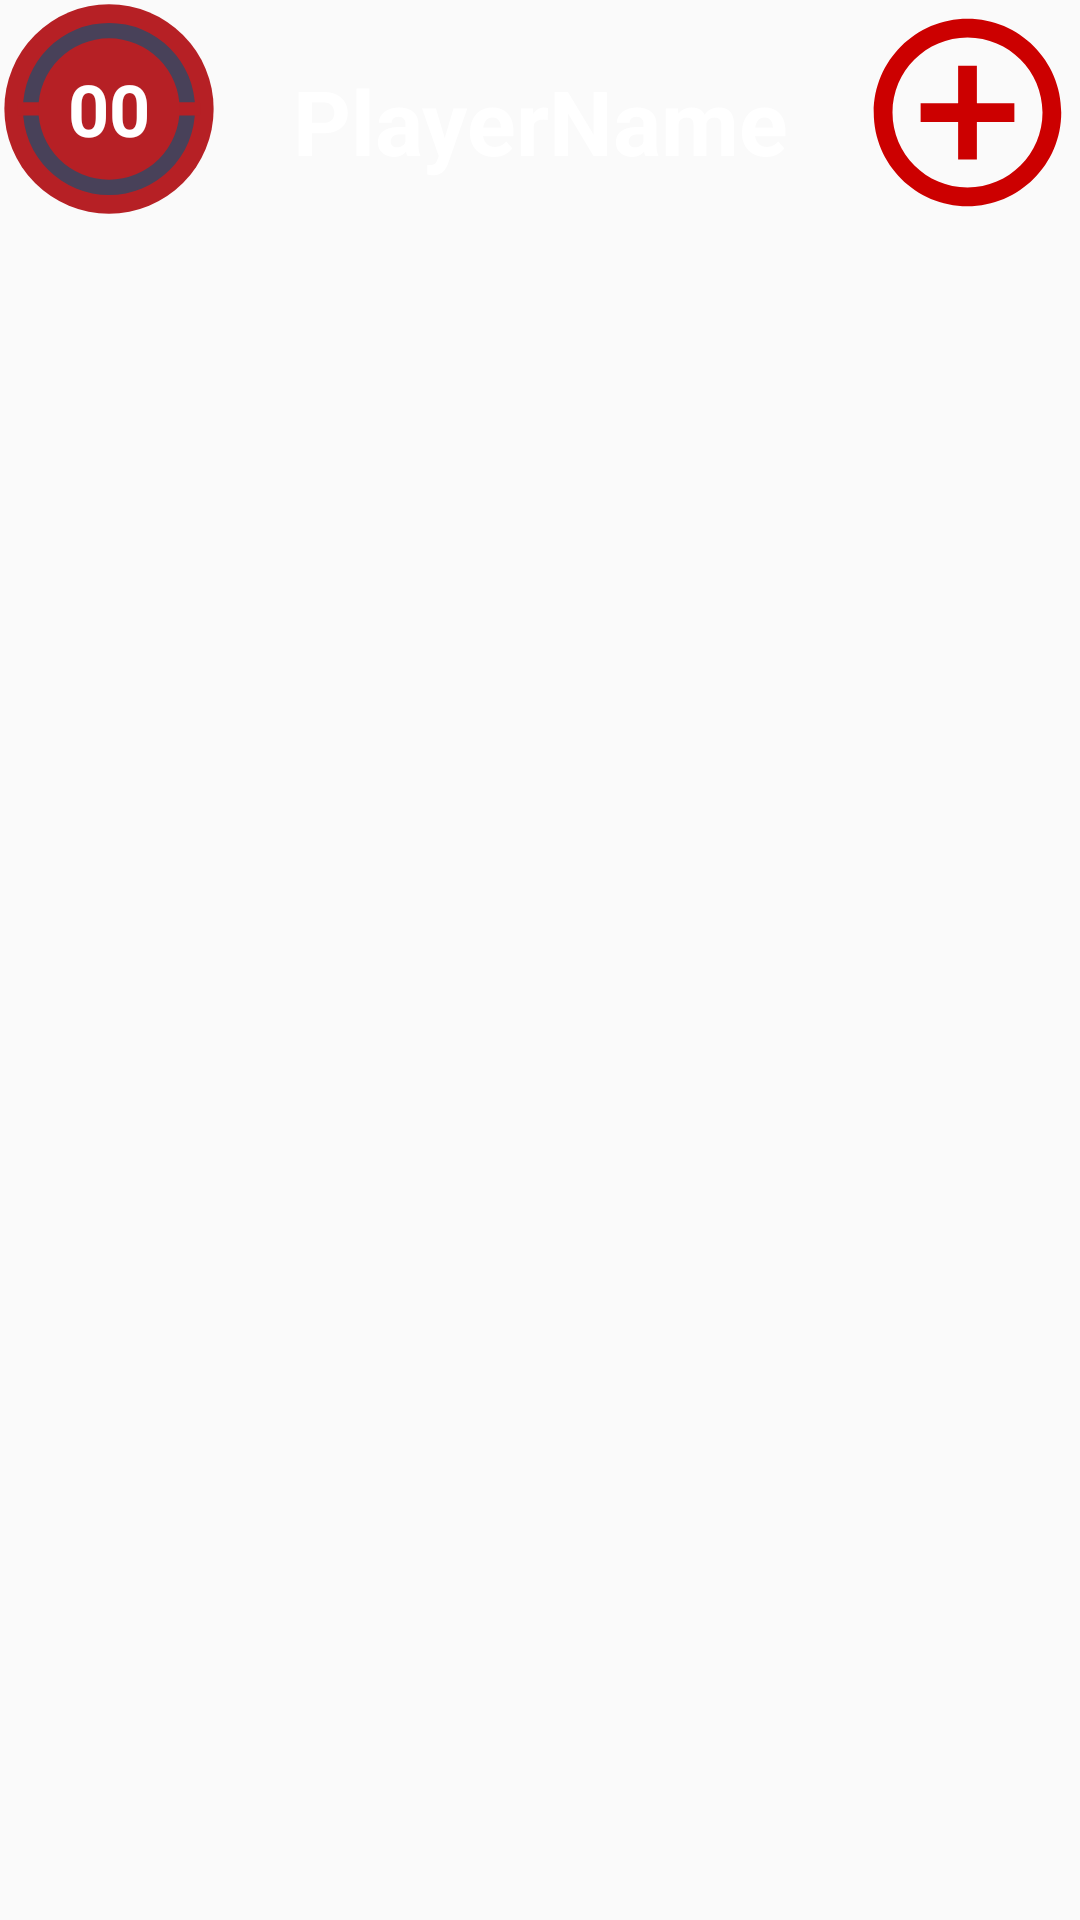

Icon click points for this 1080×1920 phone screenshot, format point (x, y):
add circle: point (967, 112)
levelborder: point (109, 109)
